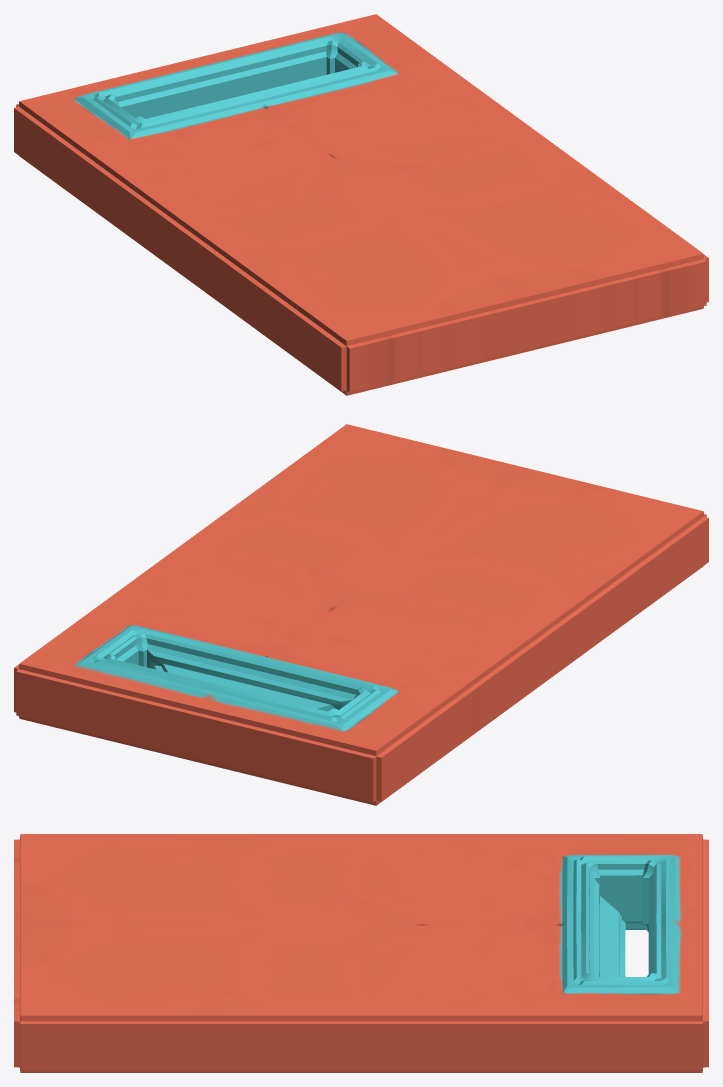
File: Tabua.fbx
The picture shows the model from 3 angles, top to bottom: view 1: azimuth 30°, elevation 25°; view 2: azimuth 150°, elevation 25°; view 3: azimuth 270°, elevation 25°; orthographic projection. The views are drawn at different scales.
Parts seen in each view (by area): view 1: Tabua; view 2: Tabua; view 3: Tabua.
Boxes of the visible parts, x1,y1,x2,y2 form: Tabua: [14, 14, 708, 395]; Tabua: [14, 424, 708, 805]; Tabua: [14, 834, 708, 1072].
Size of the model in its own units: 35 by 6.43 by 55.
